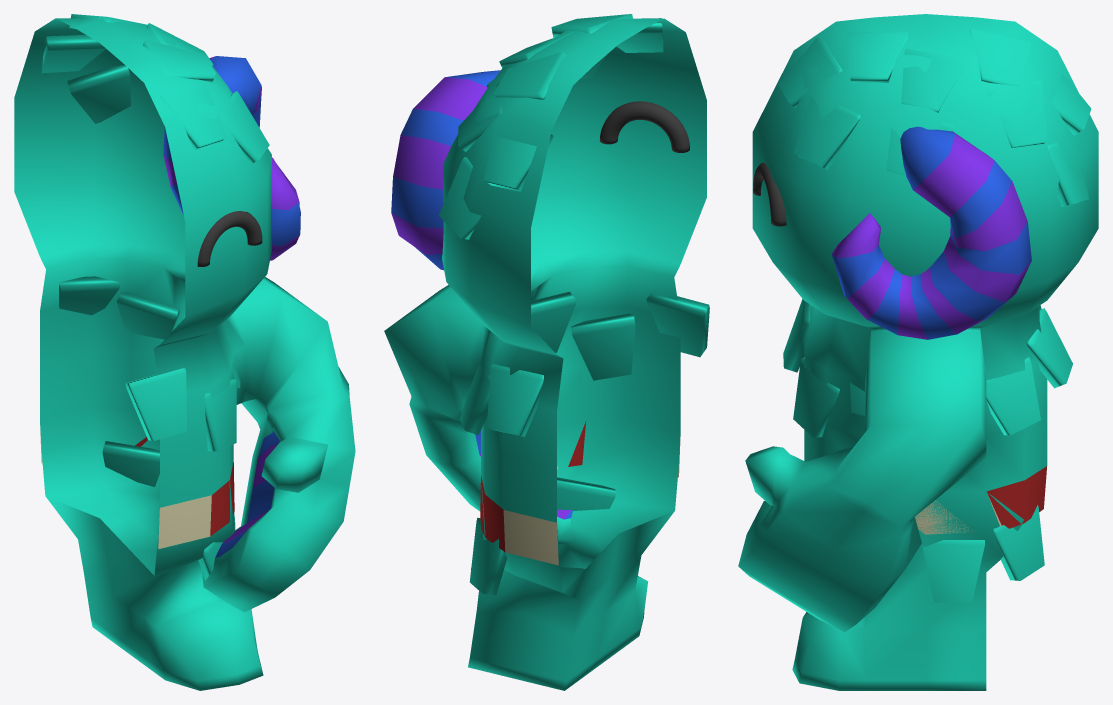
The model's file is cute-monster-swim-ring-for-my-wbsite-test.glb.
The picture shows the model from 3 angles, left to right: view 1: azimuth 30°, elevation 25°; view 2: azimuth 150°, elevation 25°; view 3: azimuth 270°, elevation 25°; orthographic projection. The views are drawn at different scales.
Parts seen in each view (by area): view 1: Cube, Cube.001, Cube.003, Cube.002, Cube.018, Cube.019, Cube.006, Cube.017, Cube.004, Cube.010, Cube.007, Cube.013 (+3 smaller); view 2: Cube, Cube.001, Cube.002, Cube.004, Cube.007, Cube.003, Torus, Cube.017, Cube.016, Cube.005, Cube.010, Cube.018 (+6 smaller); view 3: Cube, Cube.001, Cube.009, Cube.002, Cube.006, Cube.011, Cube.013, Cube.014, Cube.016, Cube.010, Cube.004, Cube.007 (+7 smaller).
Part boxes in pixels (x1,y1,x2,y2): Cube: (14,18,355,690); Cube.001: (163,56,300,260); Cube.003: (125,368,186,440); Cube.002: (40,425,234,548); Cube.018: (67,65,130,123); Cube.019: (160,82,226,151); Cube.006: (117,292,179,339); Cube.017: (42,35,105,73); Cube.004: (204,379,236,451); Cube.010: (102,441,159,486); Cube.007: (59,276,119,315); Cube.013: (143,40,215,82); Cube: (384,18,706,690); Cube.001: (391,70,500,270); Cube.002: (480,421,680,565); Cube.004: (571,314,635,380); Cube.007: (486,364,543,436); Cube.003: (646,293,709,357); Torus: (599,101,689,152); Cube.017: (483,134,553,191); Cube.016: (494,51,566,99); Cube.005: (531,291,576,352); Cube.010: (469,517,507,595); Cube.018: (439,157,480,239); Cube: (738,14,1098,690); Cube.001: (831,126,1031,339); Cube.009: (922,540,984,602); Cube.002: (915,466,1046,534); Cube.006: (986,357,1040,435); Cube.011: (793,95,860,169); Cube.013: (846,31,908,83); Cube.014: (901,49,966,112); Cube.016: (970,27,1031,86); Cube.010: (993,505,1044,580); Cube.004: (793,358,839,437); Cube.007: (1026,308,1072,388).
Bounding box in the file's own units: 2.4 × 5.64 × 2.97.
